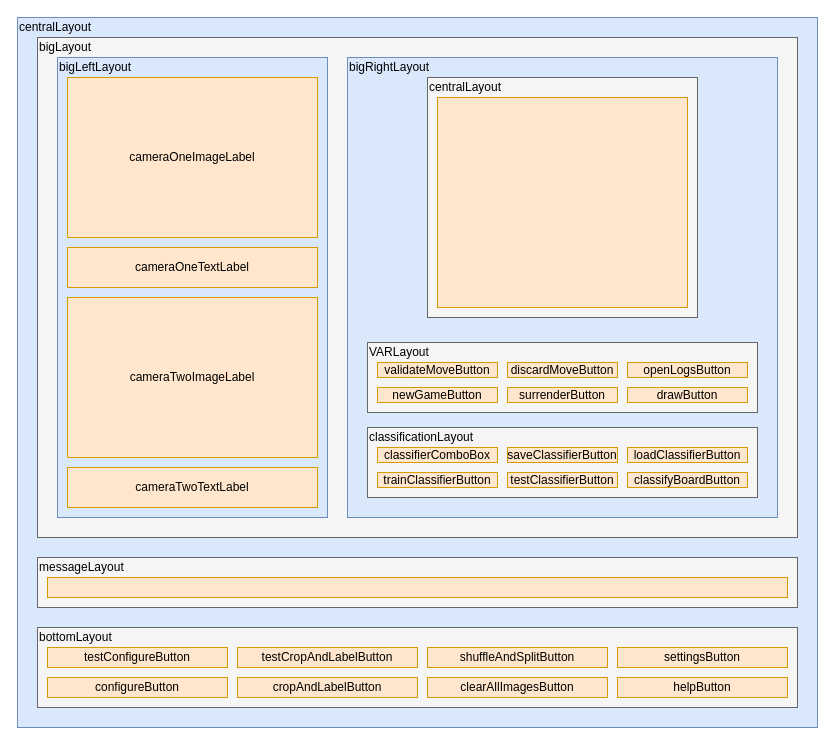
The diagram is 835 pixels wide and 745 high, and some of its shapes have lost their labels. The shapes that lost their labels are listed below. From the top down, each one's centre as x and y in pixels, then its label:
pixel 562 202: pieceLabels
pixel 417 587: messageLabel
